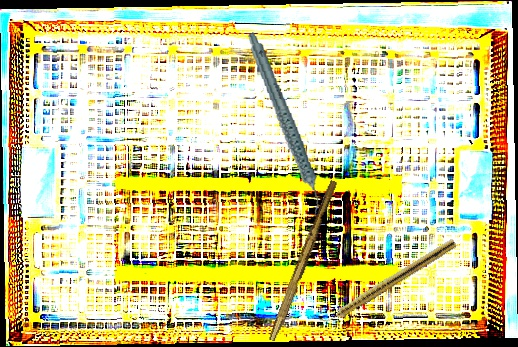Handpiece: (246, 26, 322, 222), (318, 235, 458, 330)
Scalpel Handle: (268, 178, 339, 344)
